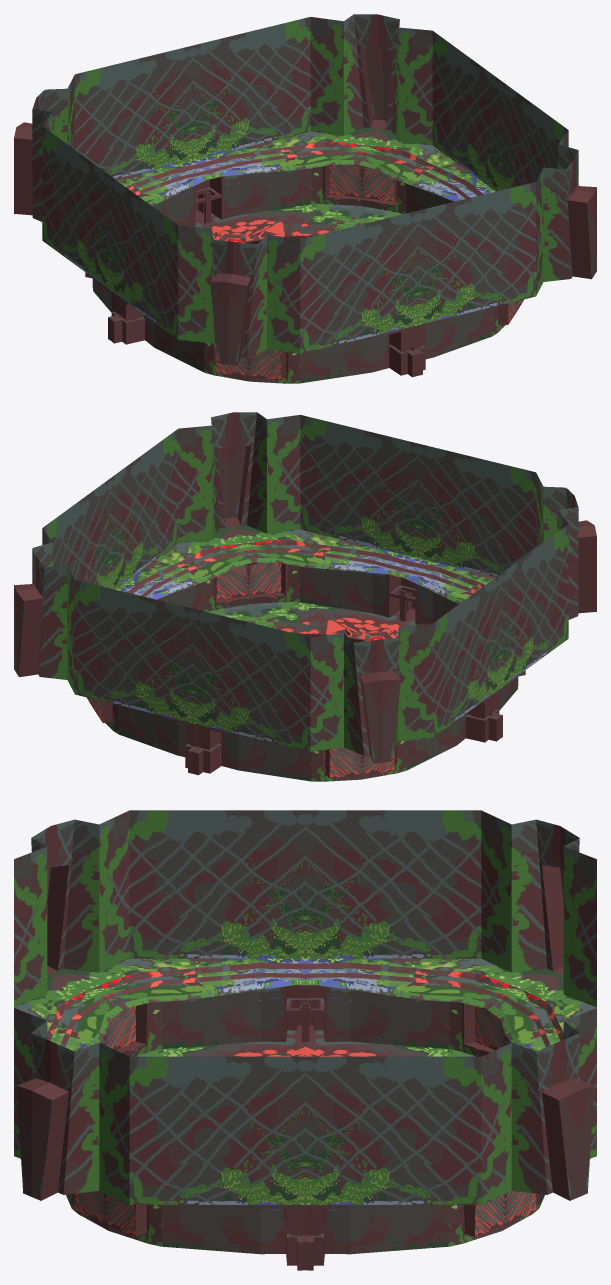
File: Final room First level.fbx
The picture shows the model from 3 angles, top to bottom: view 1: azimuth 30°, elevation 25°; view 2: azimuth 150°, elevation 25°; view 3: azimuth 270°, elevation 25°; orthographic projection. The views are drawn at different scales.
Parts seen in each view (by area): view 1: Plane; view 2: Plane; view 3: Plane.
Boxes of the visible parts, x1,y1,x2,y2 form: Plane: [14, 14, 596, 383]; Plane: [14, 412, 596, 781]; Plane: [14, 810, 596, 1270].
Size of the model in its own units: 4000 by 2148 by 4000.
Materials: 1 (1 with a texture image).
